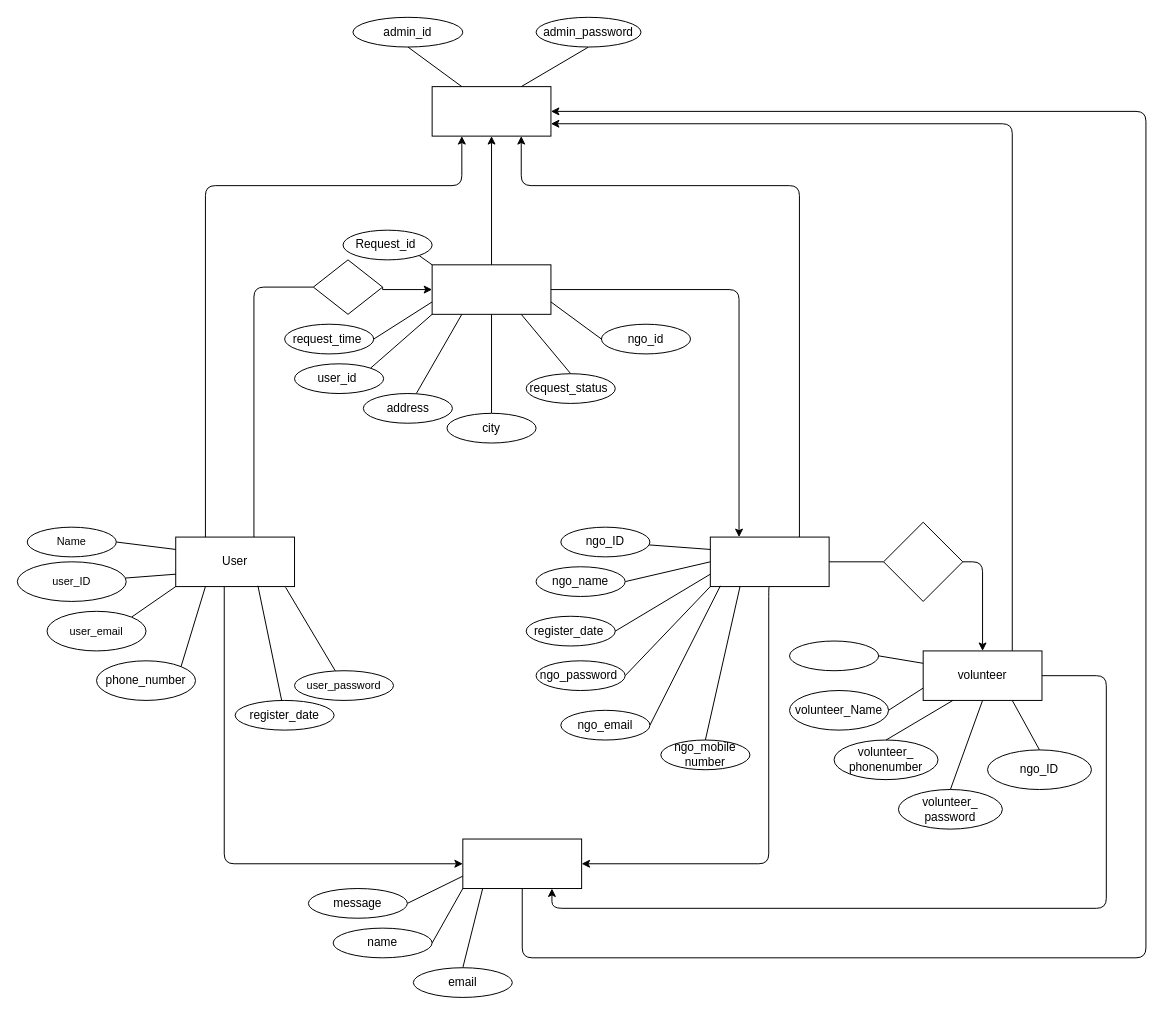
This 1171x1015 diagram has some shape labels left out. Here are the shapes that lost their labels. From the top down, the centre of each, then its label:
the point at 491,111: admin
the point at 347,286: has
the point at 491,289: Food Pickup requests
the point at 769,561: NGO
the point at 923,561: Add and Remove
the point at 834,655: volunteer_ID
the point at 522,863: Contact US
